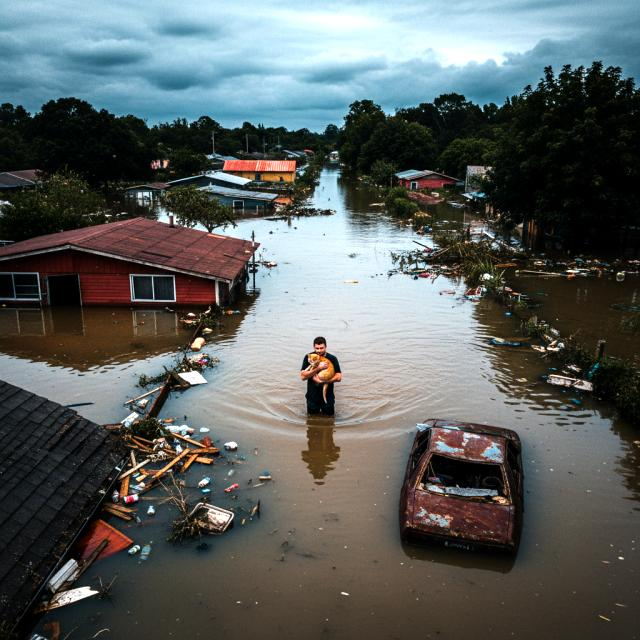cat: (305, 346, 340, 406)
civilian: (298, 328, 348, 418)
